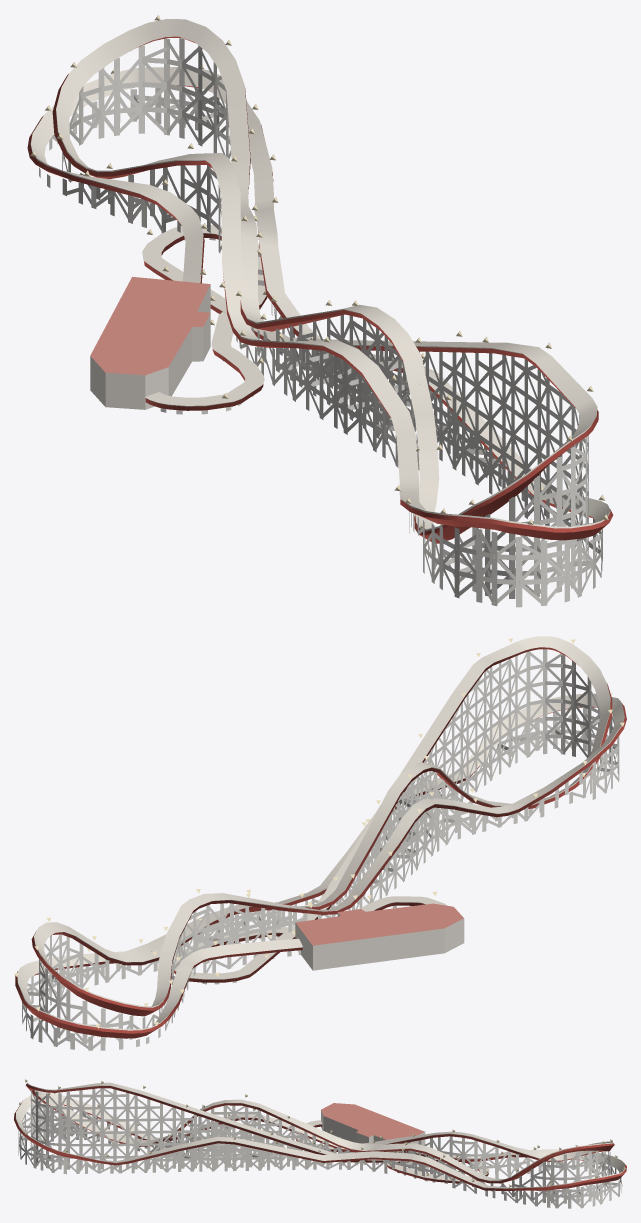
Rendered from sd-giant-dipper.glb.
3 views of the same model, one above another, from view 1: azimuth 30°, elevation 25°; view 2: azimuth 150°, elevation 25°; view 3: azimuth 270°, elevation 25° (orthographic). The views are drawn at different scales.
Parts seen in each view (by area): view 1: Giant Dipper; view 2: Giant Dipper; view 3: Giant Dipper.
Part boxes in pixels (box(x1,y1,x2,y2)): Giant Dipper: box(27, 14, 613, 607); Giant Dipper: box(14, 636, 626, 1050); Giant Dipper: box(14, 1079, 626, 1208).
Size of the model in its own units: 50.62 by 23.58 by 145.
